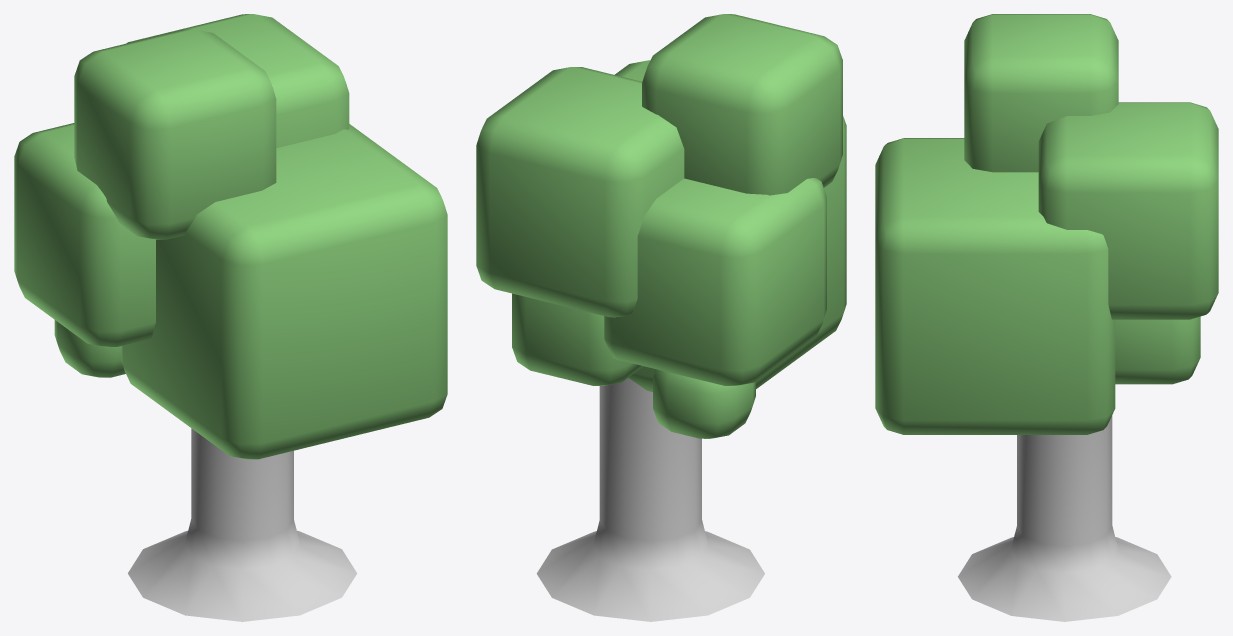
File: Tree.fbx
3 views of the same model, side by side, from view 1: azimuth 30°, elevation 25°; view 2: azimuth 150°, elevation 25°; view 3: azimuth 270°, elevation 25° (orthographic). The views are drawn at different scales.
Parts seen in each view (by area): view 1: Tree; view 2: Tree; view 3: Tree.
Boxes of the visible parts, <box> form: Tree: <box>14,14,447,621</box>; Tree: <box>476,14,846,621</box>; Tree: <box>875,14,1218,621</box>.
Size of the model in its own units: 71.21 by 130 by 80.03.
